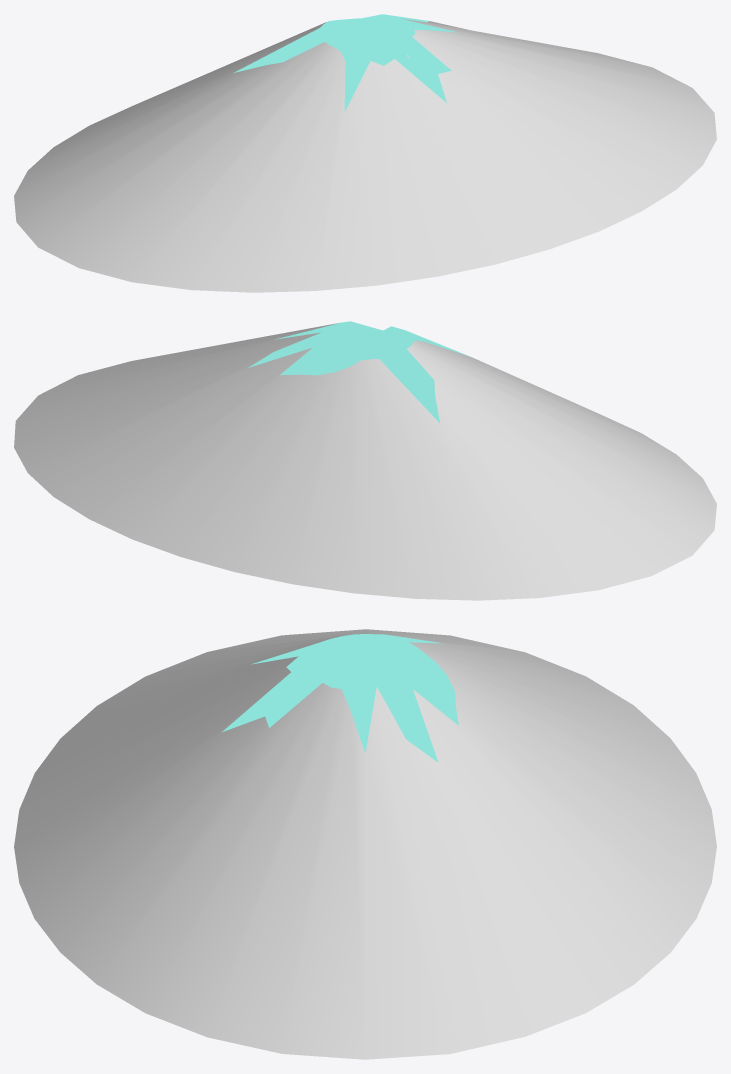
The model's file is bettermound.fbx.
3 renders of one model, top to bottom at view 1: azimuth 30°, elevation 25°; view 2: azimuth 150°, elevation 25°; view 3: azimuth 270°, elevation 25°, orthographic. The views are drawn at different scales.
Visible parts, largest first — view 1: Circle; view 2: Circle; view 3: Circle.
Part boxes in pixels (x1,y1,x2,y2): Circle: (14, 14, 716, 292); Circle: (14, 321, 716, 600); Circle: (14, 629, 716, 1059).
Size of the model in its own units: 1130 by 227 by 779.
